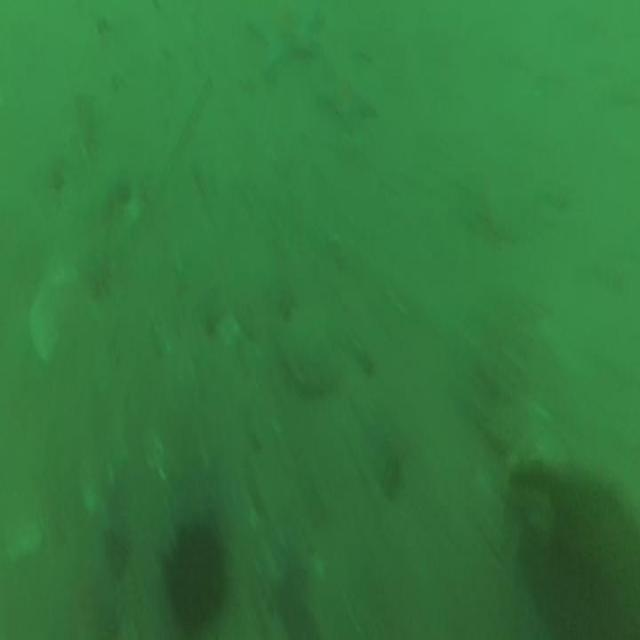echinus: (163, 528, 226, 630)
